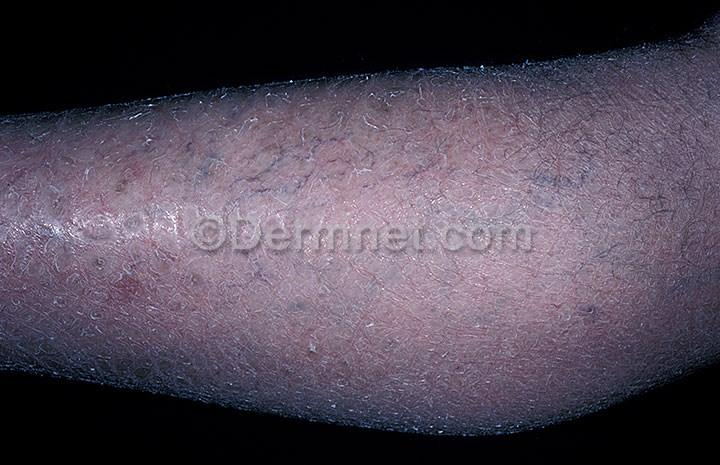liquenificacion 1: (0, 46, 719, 439)
xerosis 2: (0, 40, 719, 443)
